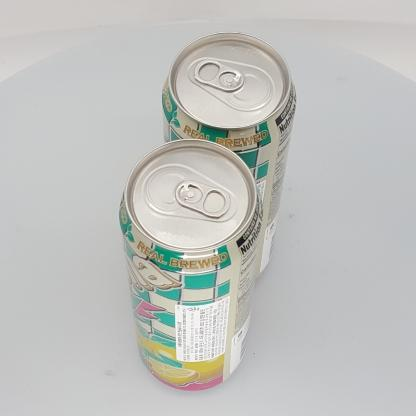-------------------680ML: (120, 138, 263, 391)
